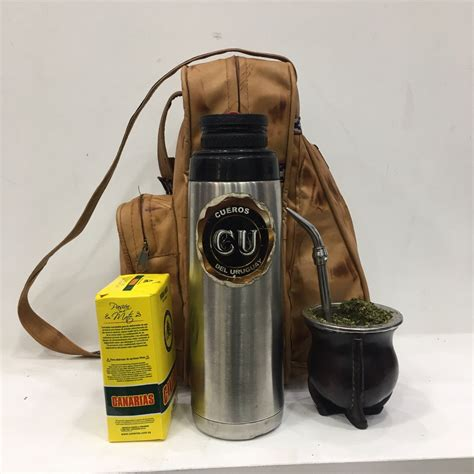cuero: (307, 324, 399, 430)
